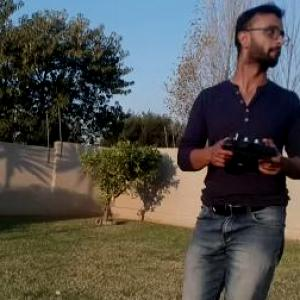follow: (174, 0, 299, 299)
